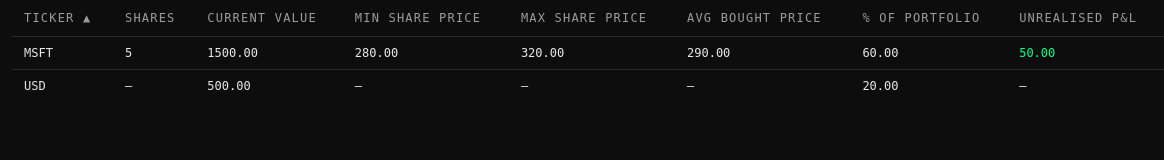
PortfolioHoldingsTable › PortfolioHoldingsTable - Escape key - dismisses context menu
The width and height of the screenshot is (1164, 160).
Right-click the row "MSFT 5 1500.00 280.00 320.00 290.00 60.00 50.00" at x=588, y=52, box [12,36,1163,69]
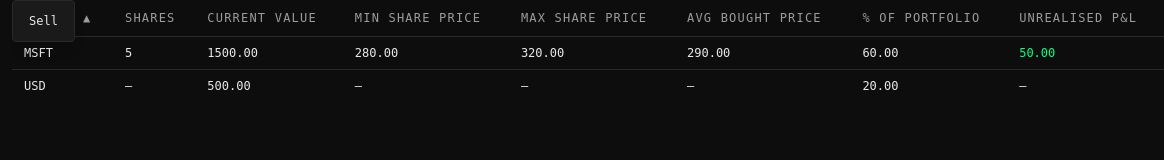
Check: the menu is shown, box [12,0,75,42]
Press Escape
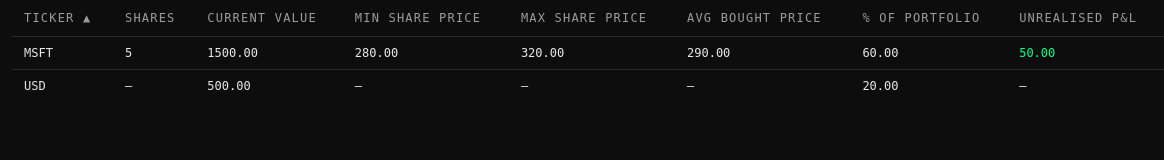
Check: the menu is gone
